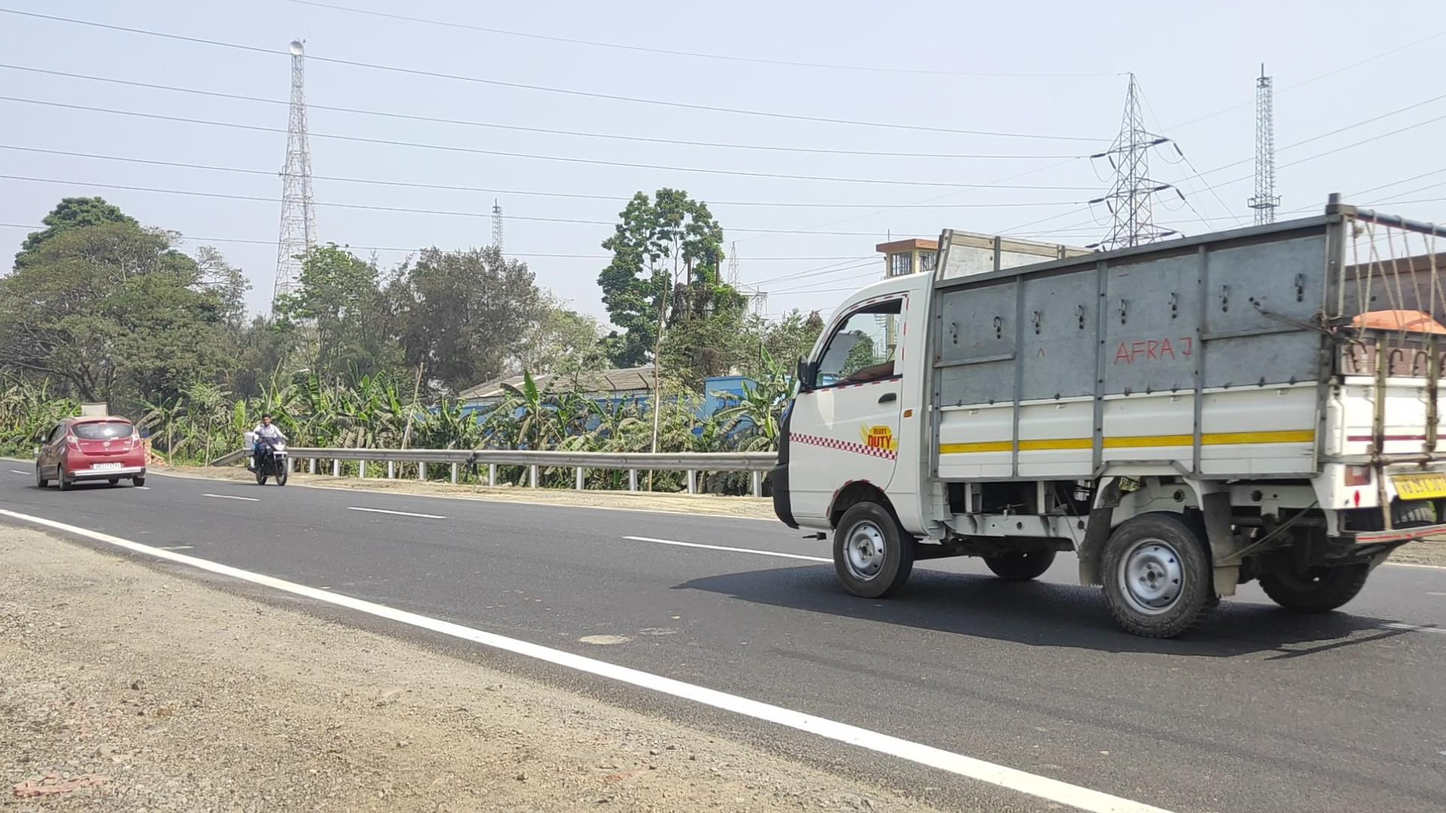bike: (247, 414, 289, 487)
car: (36, 416, 146, 491)
van: (770, 193, 1446, 638)
